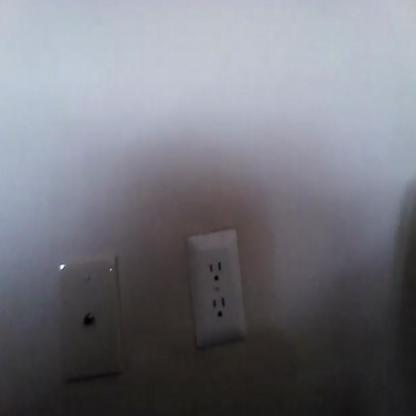OUTLET: (186, 225, 250, 343)
